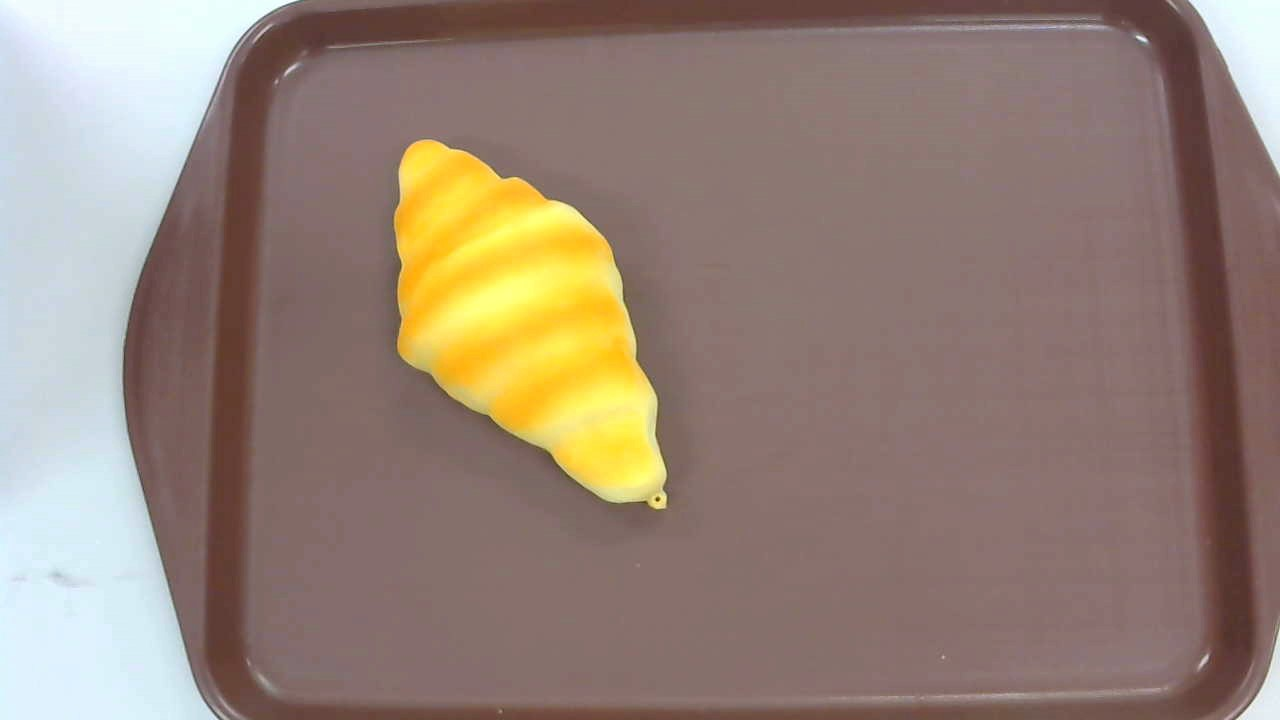croissant: (393, 140, 671, 509)
